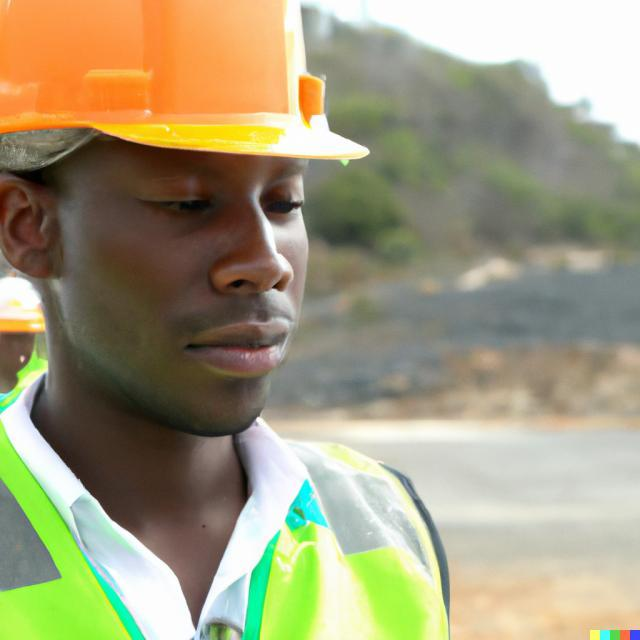reflective_jacket: (0, 411, 465, 639)
safety_helmet: (3, 5, 370, 164), (0, 274, 47, 337)
